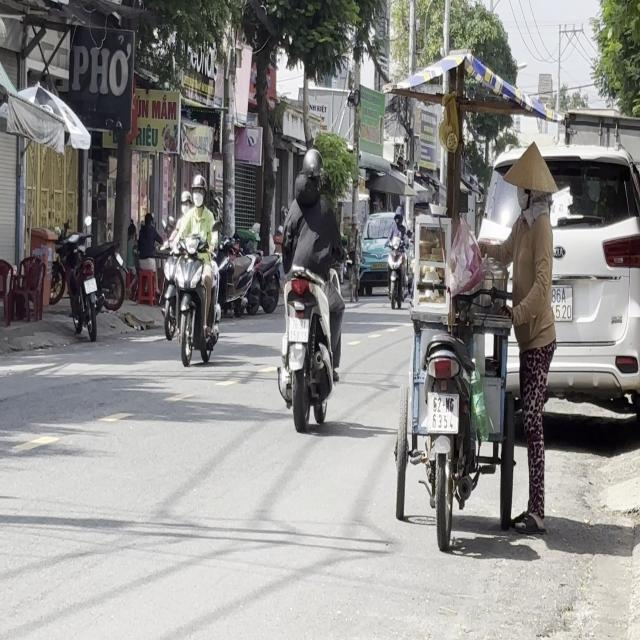helmet: (301, 147, 322, 190), (190, 172, 206, 206)
licenseplate: (274, 144, 346, 429), (164, 171, 222, 367)
nohelmet: (428, 394, 458, 432), (288, 318, 308, 342)
